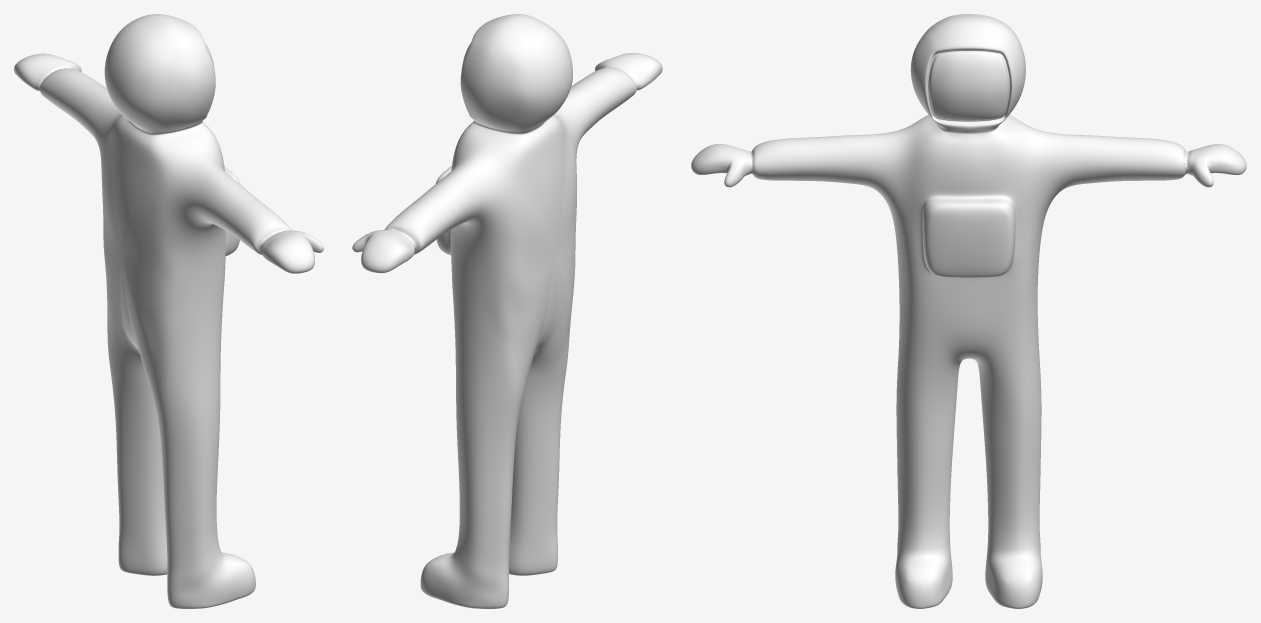
The model's file is Astronier_2.fbx.
3 renders of one model, left to right at view 1: azimuth 30°, elevation 25°; view 2: azimuth 150°, elevation 25°; view 3: azimuth 270°, elevation 25°, orthographic.
Visible parts, largest first — view 1: Cylinder.002; view 2: Cylinder.002; view 3: Cylinder.002.
Boxes of the visible parts, <box> form: Cylinder.002: <box>14,14,323,608</box>; Cylinder.002: <box>352,14,662,608</box>; Cylinder.002: <box>691,14,1246,608</box>.
Size of the model in its own units: 47.44 by 223 by 200.
Materials: 1 (1 with a texture image).
